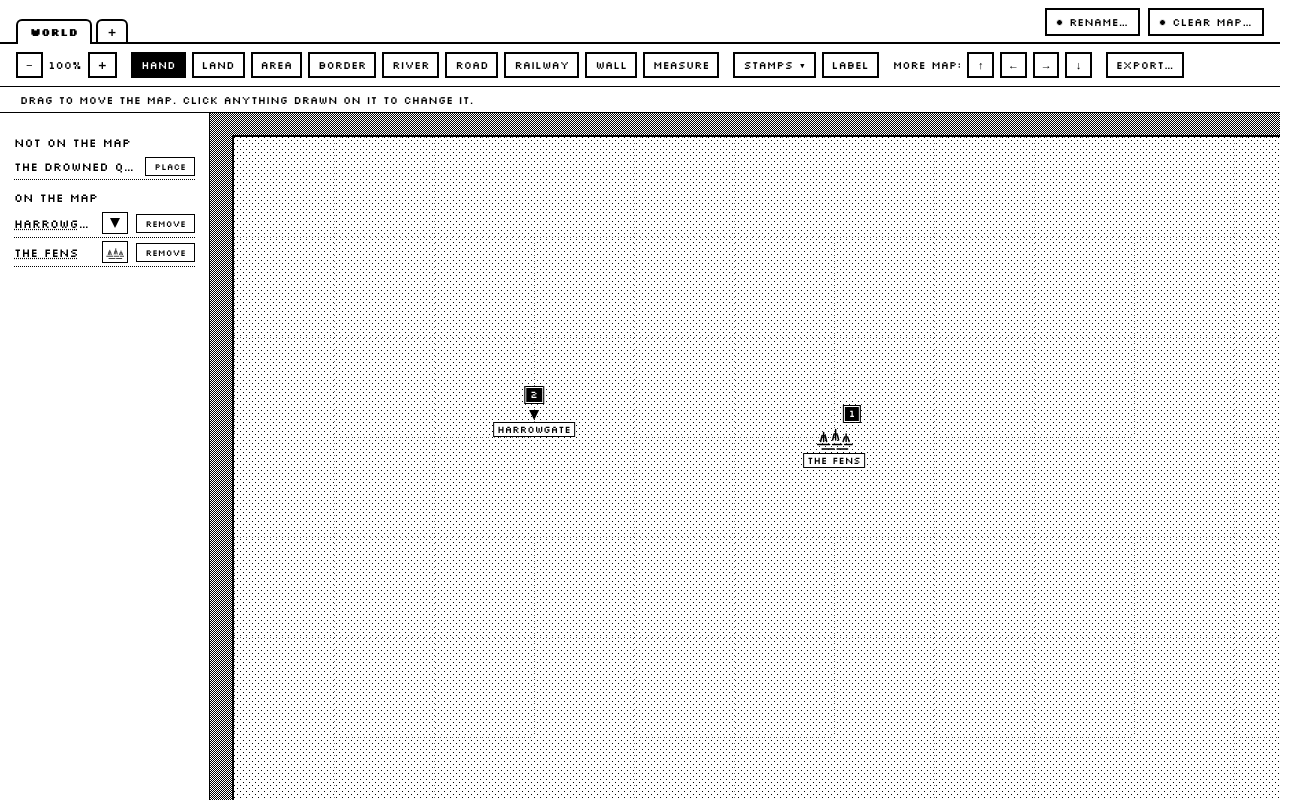
Test: scenes on the map › stands aside while drawing, as the pins do
Check: the button with class "map-scene-count" showing "2" is shown, box [525,387,543,403]
Click the button "Land" at (218, 65), box [192,52,245,78]
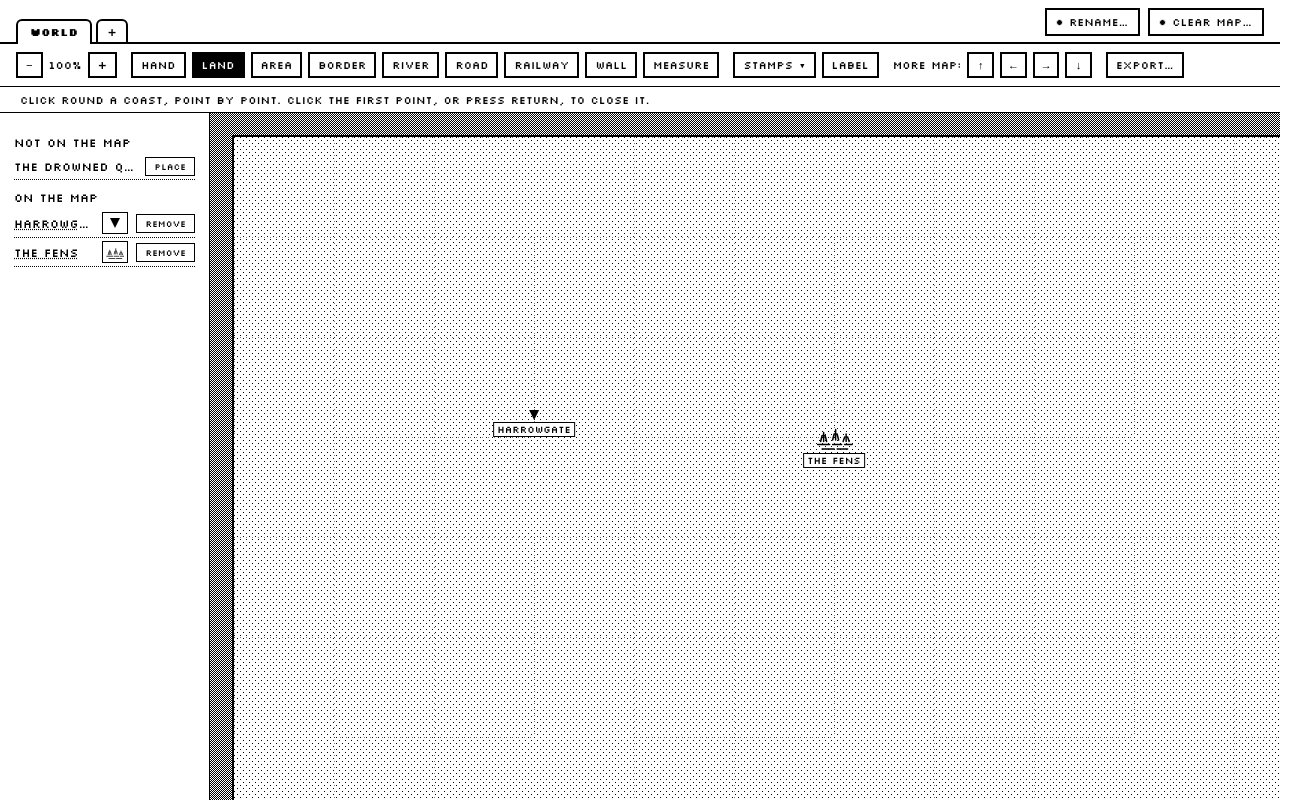
Check: the button with class "map-scene-count" is gone
